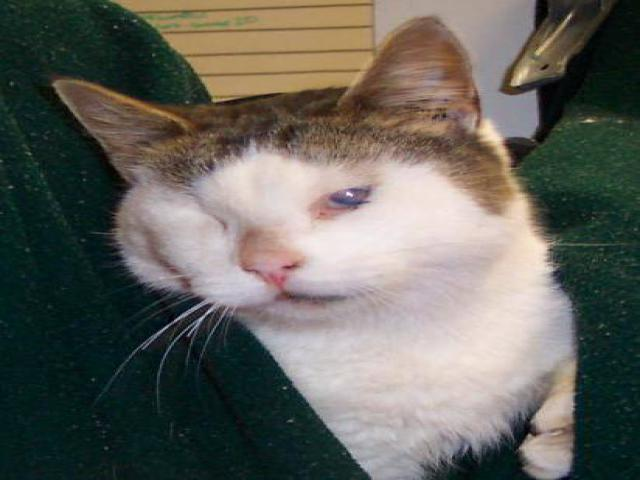cat: (61, 13, 591, 476)
